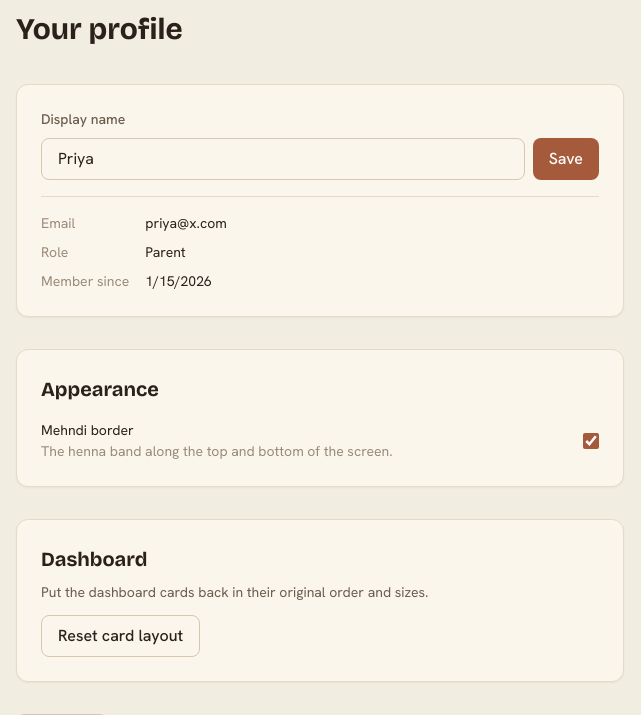
Test: ProfilePage › saves a changed name and refreshes the user
Replace the text in the field labelled "Display name" with "Priya N" at (283, 159), box x1=41 y1=138 x2=525 y2=180
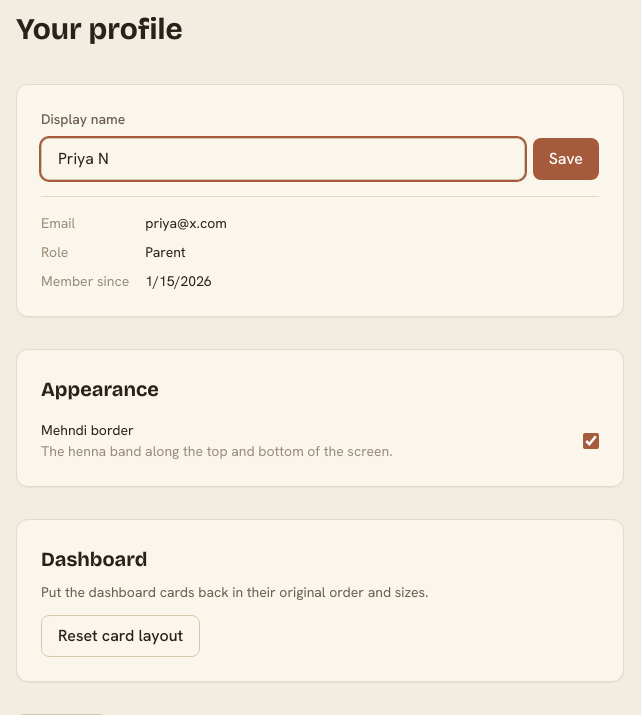
Click the button "Save" at (566, 159), box x1=533 y1=138 x2=599 y2=180
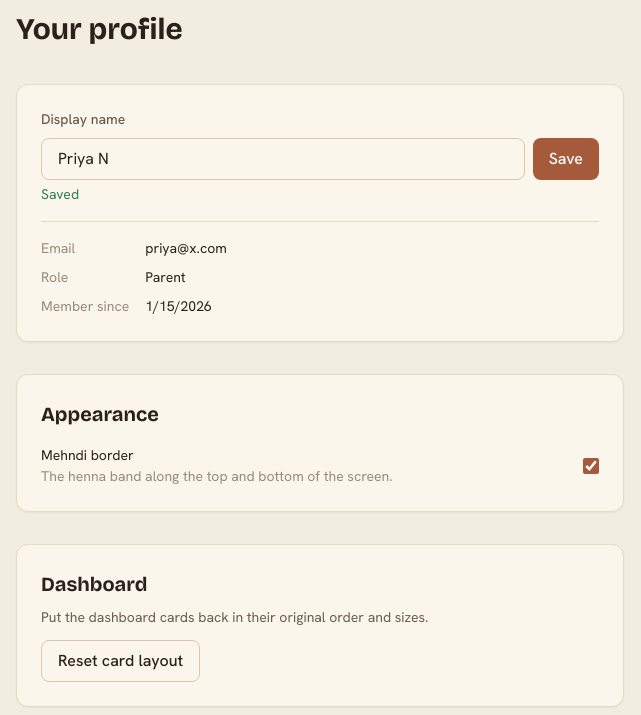
Now the text "Saved" is shown, box x1=41 y1=185 x2=79 y2=203
